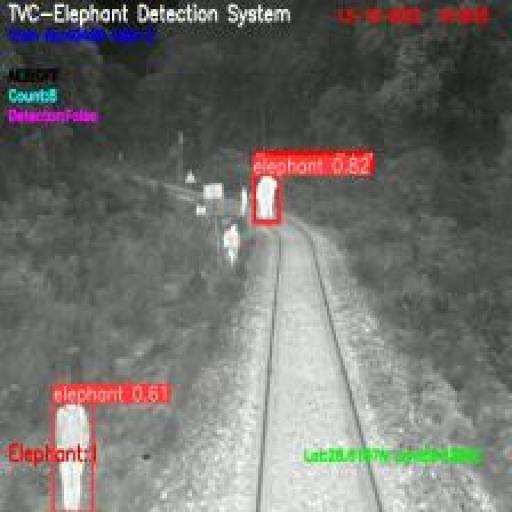Elephant: (50, 400, 89, 510), (254, 174, 281, 223)
